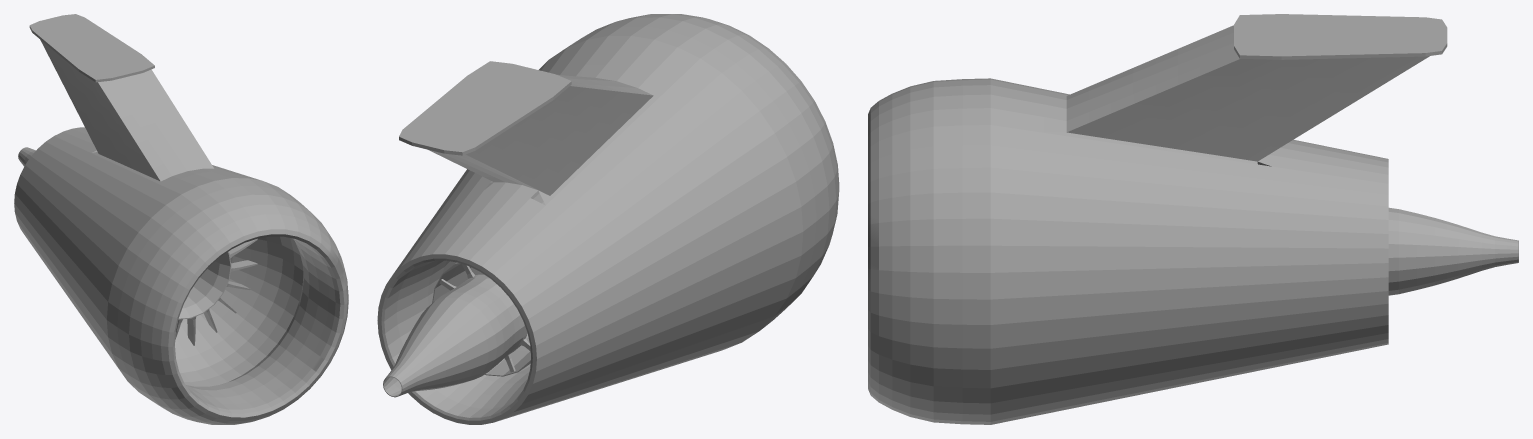
The model's file is turbofan.obj.
The picture shows the model from 3 angles, left to right: view 1: azimuth 30°, elevation 25°; view 2: azimuth 150°, elevation 25°; view 3: azimuth 270°, elevation 25°; orthographic projection. The views are drawn at different scales.
Parts seen in each view (by area): view 1: default; view 2: default; view 3: default.
Part boxes in pixels (<box>): default: <box>14,14,348,424</box>; default: <box>377,14,839,424</box>; default: <box>868,14,1518,424</box>.
Bounding box in the file's own units: 1 × 1.19 × 1.88.
